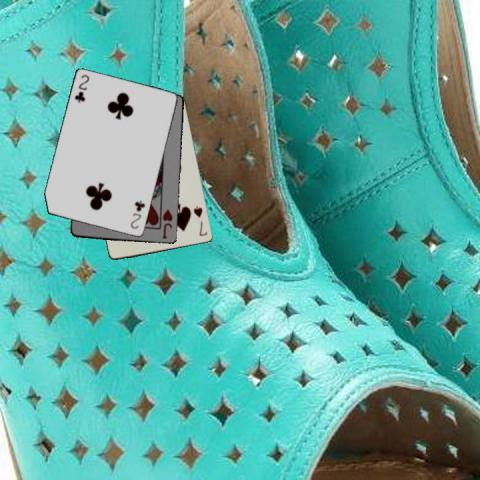2c: (127, 198, 147, 231), (72, 72, 91, 104)
7s: (191, 203, 208, 237)
Jh: (159, 206, 174, 240)
